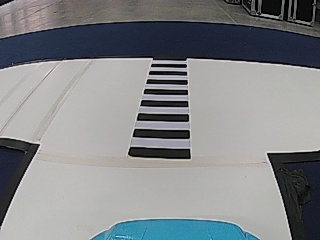CrossWalk: (126, 58, 193, 157)
